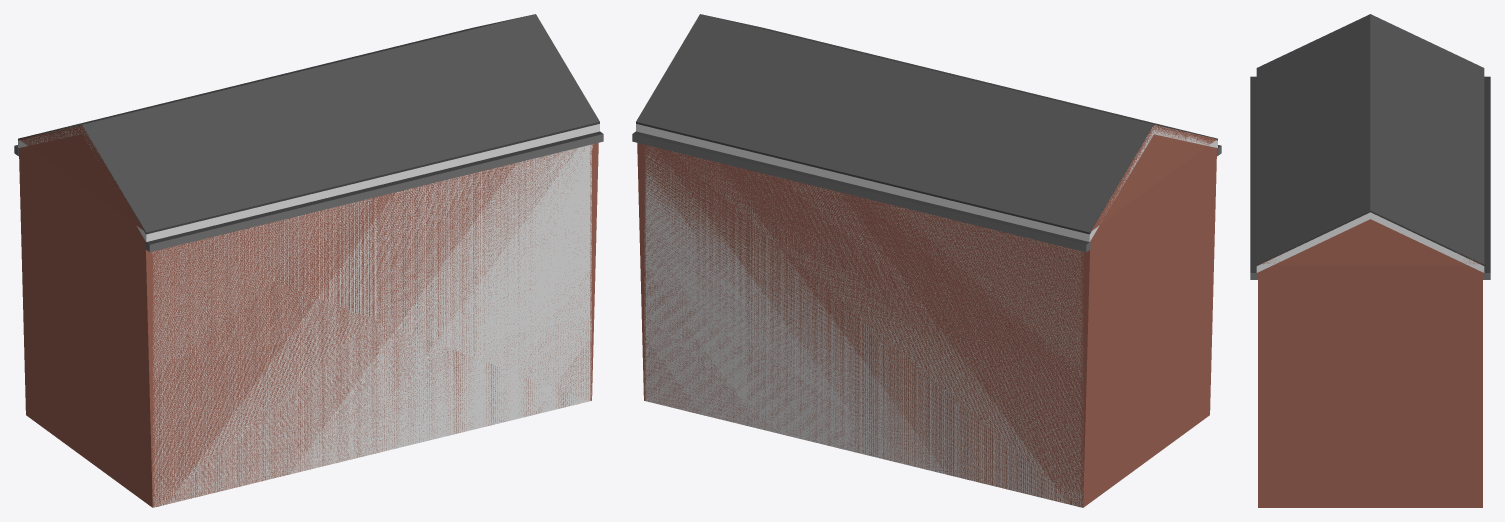
The model's file is eca_bld_filler_wall_01.dae.
The picture shows the model from 3 angles, left to right: view 1: azimuth 30°, elevation 25°; view 2: azimuth 150°, elevation 25°; view 3: azimuth 270°, elevation 25°; orthographic projection. The views are drawn at different scales.
Visible parts, largest first — view 1: eca_bld_filler_wall_01_a500, eca_bld_filler_wall_01_a20, Colmesh-1; view 2: eca_bld_filler_wall_01_a500, eca_bld_filler_wall_01_a20, Colmesh-1; view 3: eca_bld_filler_wall_01_a20, eca_bld_filler_wall_01_a500.
Part boxes in pixels (bbox=[...]): eca_bld_filler_wall_01_a500: bbox=[14, 14, 603, 506]; eca_bld_filler_wall_01_a20: bbox=[19, 125, 598, 507]; Colmesh-1: bbox=[36, 125, 592, 507]; eca_bld_filler_wall_01_a500: bbox=[632, 14, 1221, 506]; eca_bld_filler_wall_01_a20: bbox=[637, 125, 1216, 507]; Colmesh-1: bbox=[644, 125, 1203, 507]; eca_bld_filler_wall_01_a20: bbox=[1258, 14, 1482, 507]; eca_bld_filler_wall_01_a500: bbox=[1250, 14, 1490, 279].
Size of the model in its own units: 12.4 by 6.4 by 8.84.
